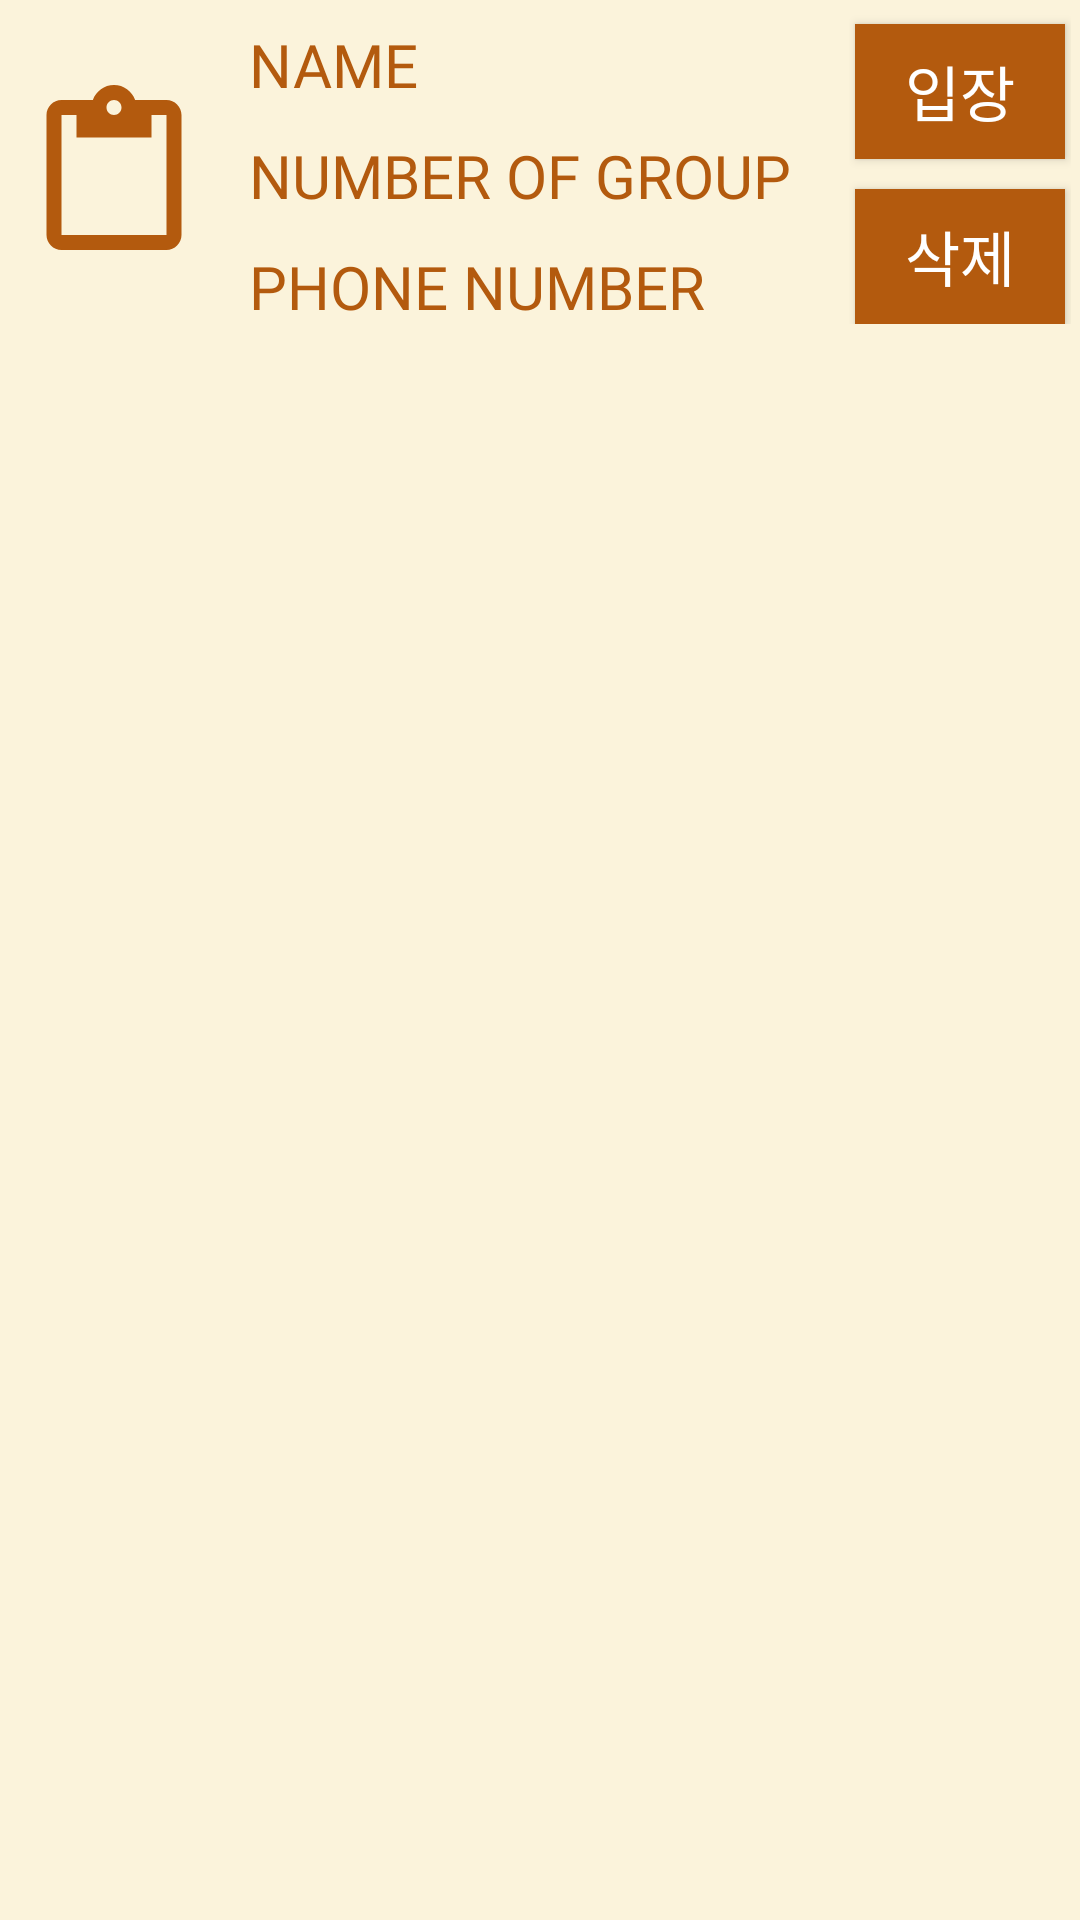

Screen size 1080px x 1920px. Icon name, then its box in pixels as (x1, y1, x2, y2):
waiting list: (46, 85, 182, 250)
